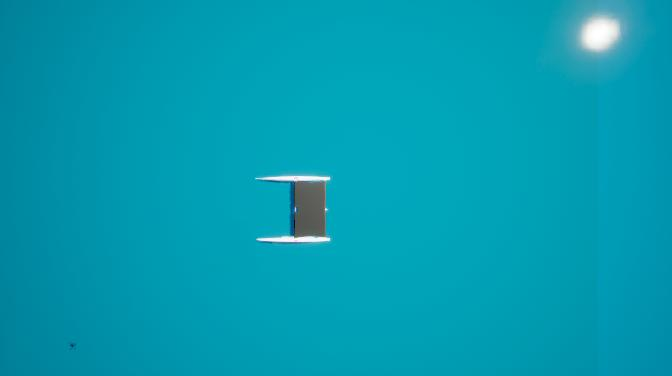boat: (252, 173, 336, 248)
drone: (67, 340, 78, 352)
land_base: (296, 182, 326, 236)
light_reflex: (557, 2, 650, 66)
